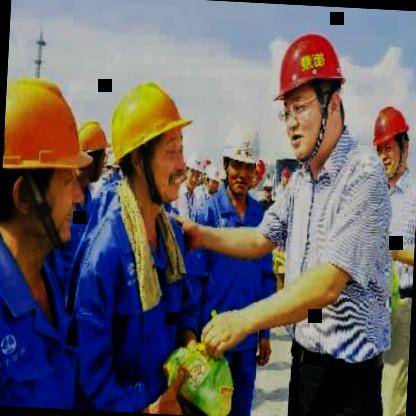helmet: (0, 63, 93, 244), (106, 69, 199, 209), (265, 23, 351, 164), (367, 98, 414, 181), (217, 116, 264, 196), (74, 118, 112, 182)
